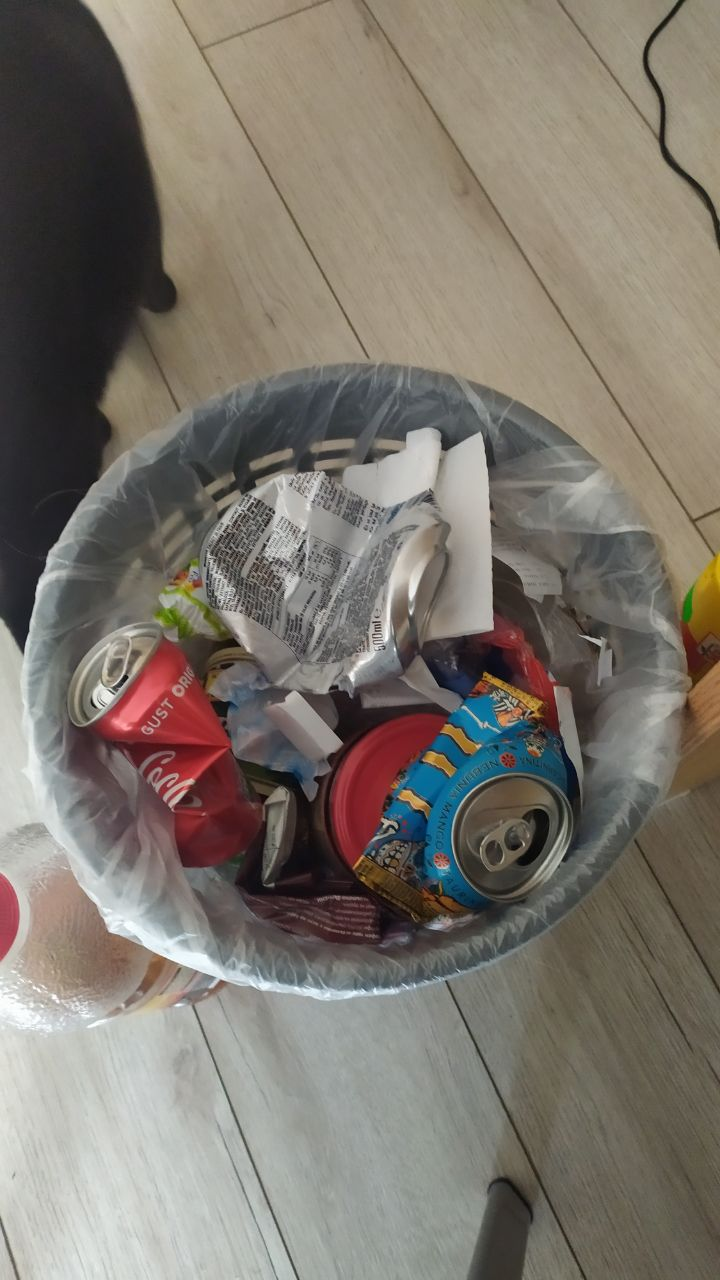Can: (353, 660, 588, 920), (192, 467, 451, 695), (71, 627, 268, 867)
